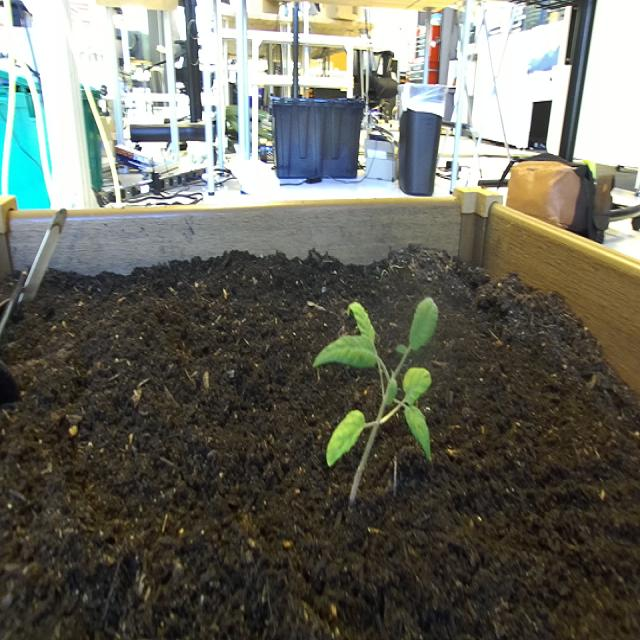Healthy: (308, 289, 442, 509)
